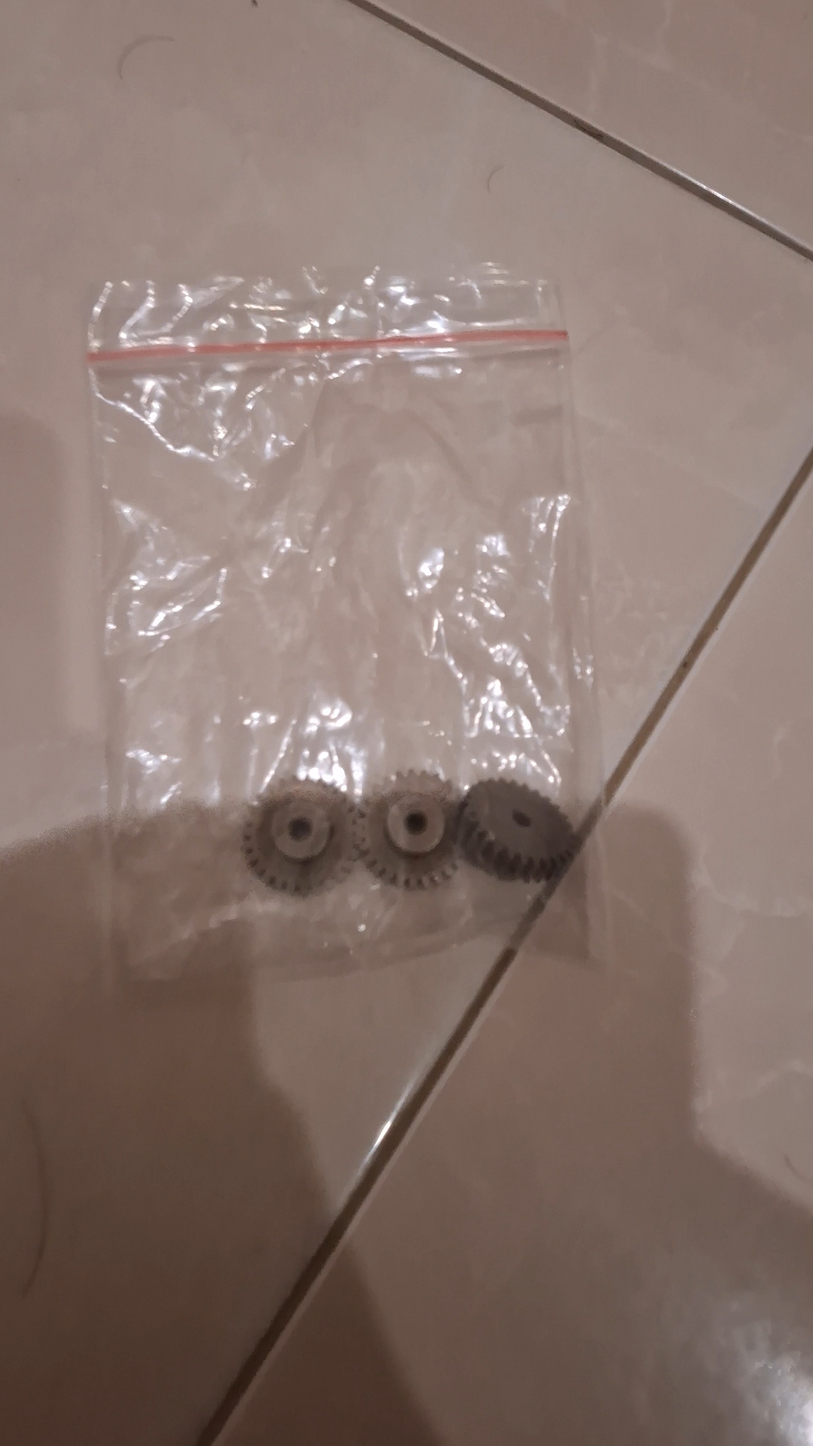spur gear: (239, 776, 360, 898), (452, 775, 577, 882), (353, 772, 466, 890)
